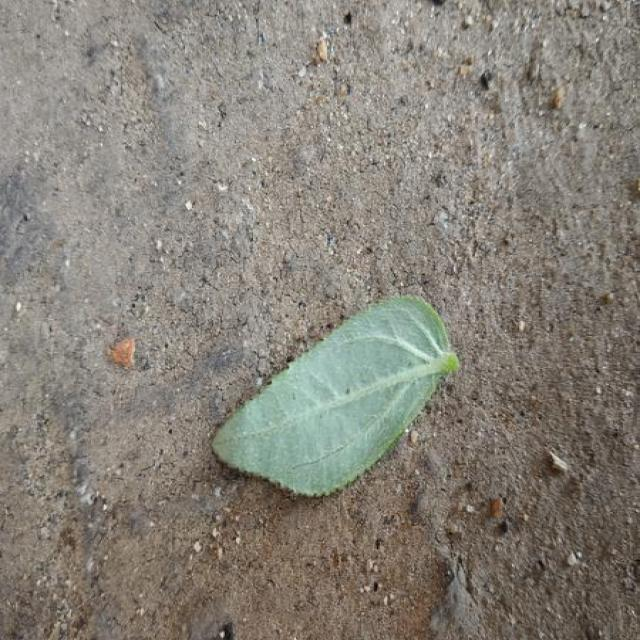Astma_weed: (212, 298, 458, 494)
